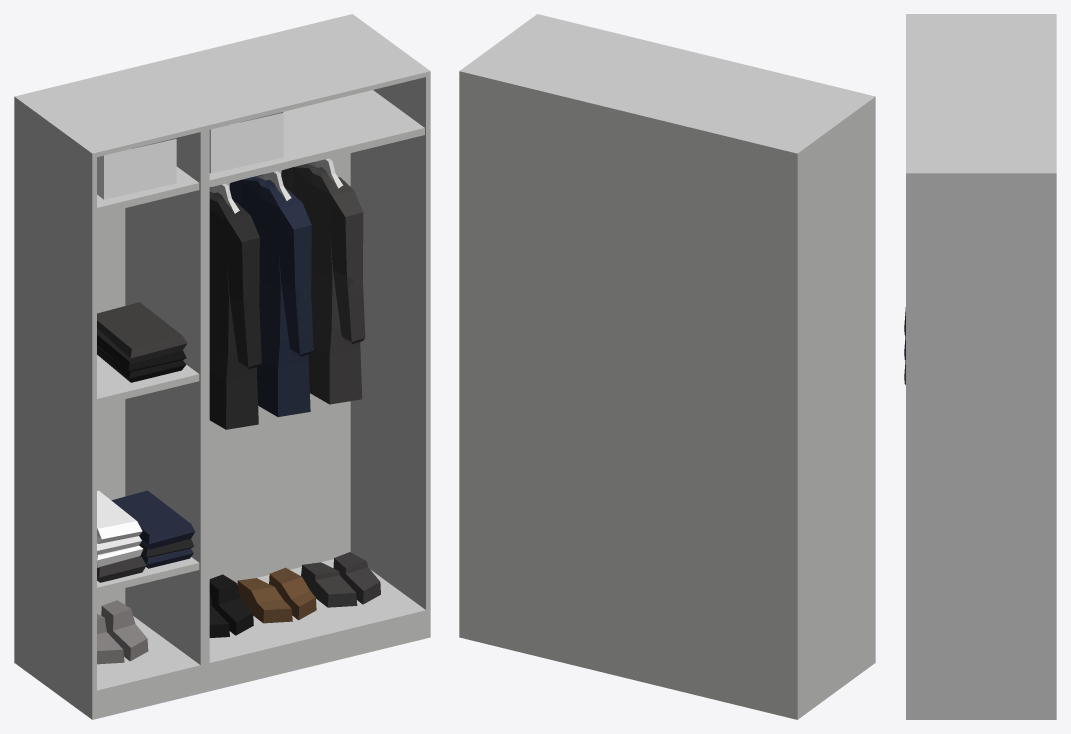
File: furniture_closet-wardrobe-open.fbx
The picture shows the model from 3 angles, left to right: view 1: azimuth 30°, elevation 25°; view 2: azimuth 150°, elevation 25°; view 3: azimuth 270°, elevation 25°; orthographic projection. The views are drawn at different scales.
Parts seen in each view (by area): view 1: furniture_closet_wardrobe_open; view 2: furniture_closet_wardrobe_open; view 3: furniture_closet_wardrobe_open.
Part boxes in pixels (x1,y1,x2,y2): furniture_closet_wardrobe_open: (14,14,430,719); furniture_closet_wardrobe_open: (459,14,875,719); furniture_closet_wardrobe_open: (904,14,1056,719).
Bounding box in the file's own units: 125 × 200 × 50.61.
